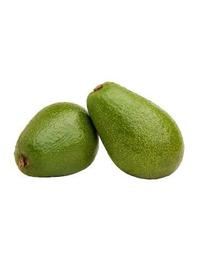avocado: (86, 81, 185, 180), (13, 101, 100, 179)
